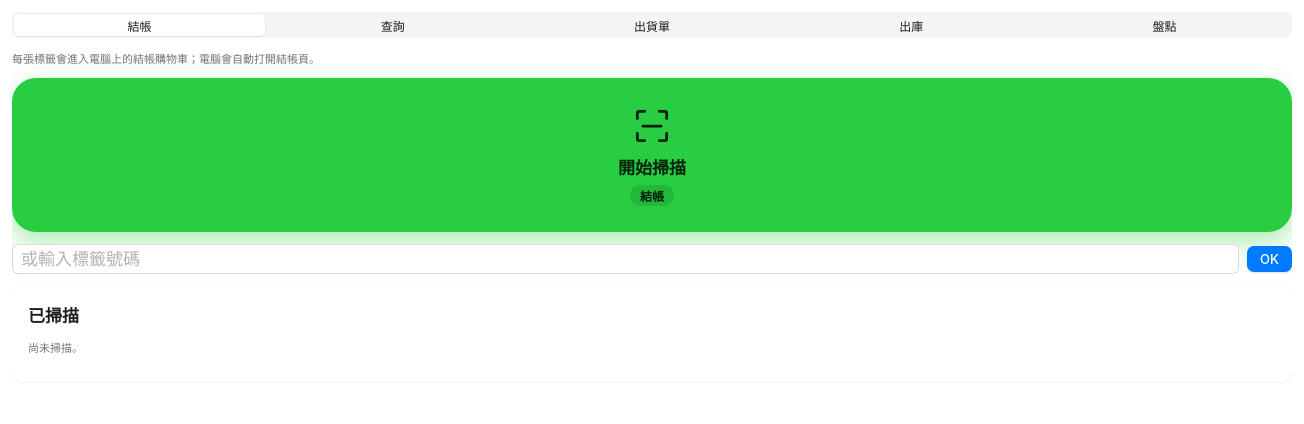
Scenario: phone scan screen › sends a checkout scan to the computer for the Thanh Toán screen, named
Step 1. Type "A12-000001" into the field labelled "或輸入標籤號碼" → {"x": 626, "y": 259}, box [12,244,1239,274]
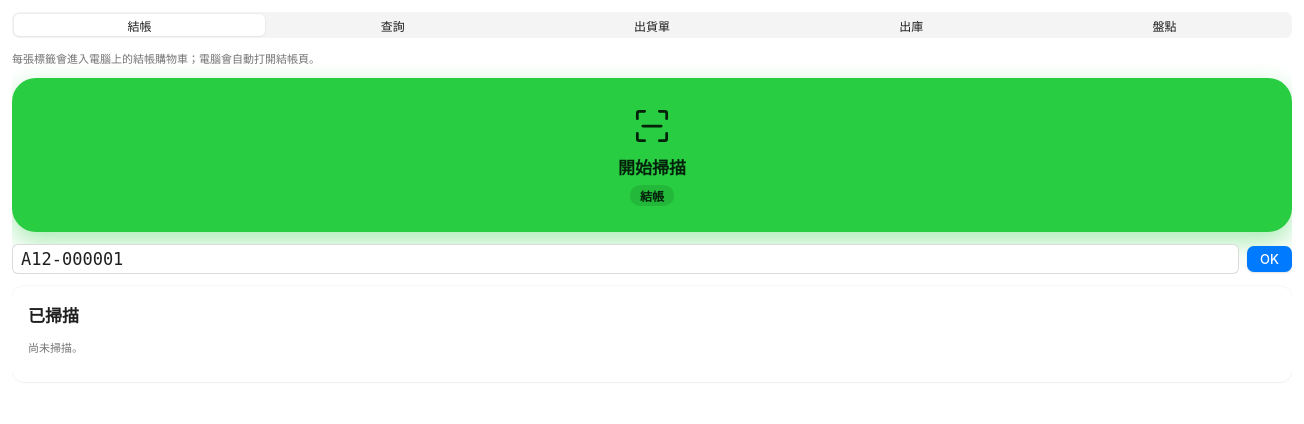
Step 2. Click the button "OK" → {"x": 1270, "y": 259}, box [1247,246,1292,272]
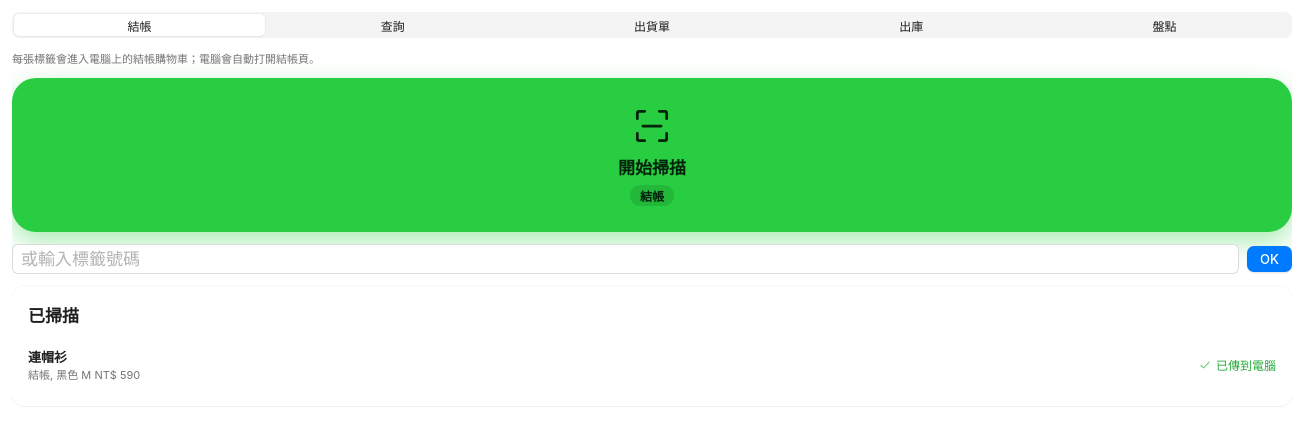
expect the text "已傳到電腦" is shown: met, box [1198,356,1276,373]
expect the text "連帽衫" is shown: met, box [28,349,67,365]
